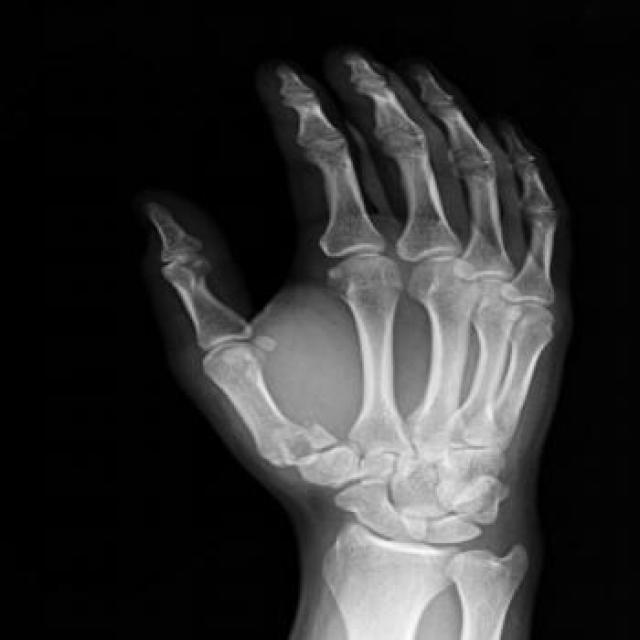fracture: (277, 419, 352, 457)
